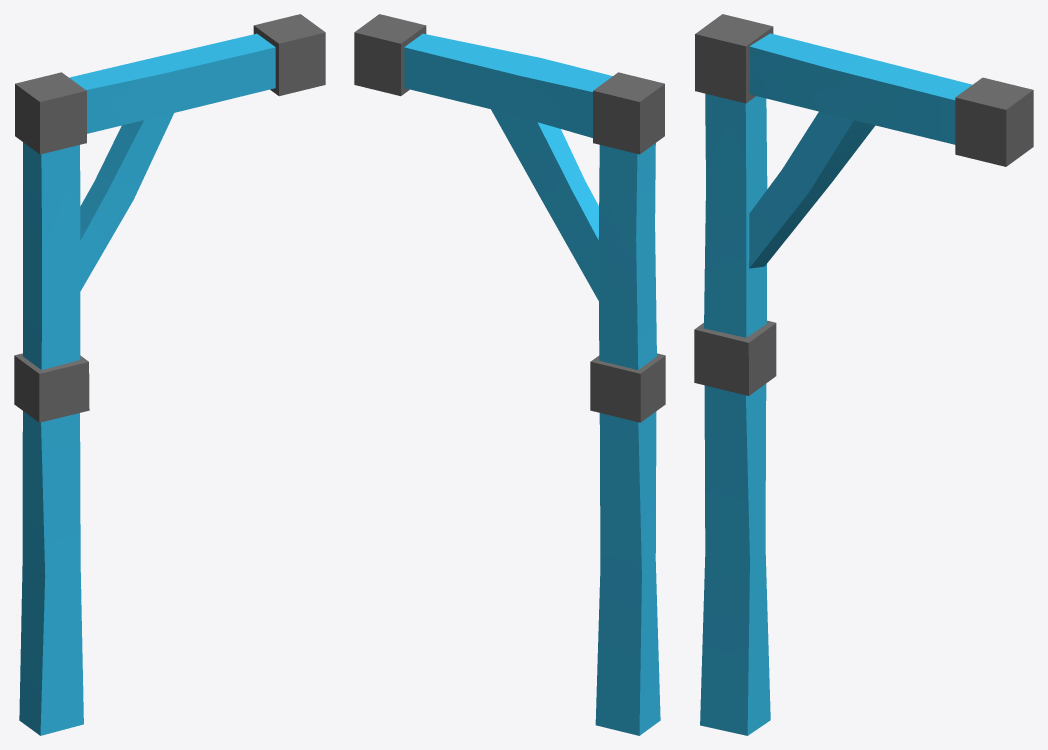
File: Module_02.fbx
3 views of the same model, side by side, from view 1: azimuth 30°, elevation 25°; view 2: azimuth 150°, elevation 25°; view 3: azimuth 330°, elevation 25° (orthographic). The views are drawn at different scales.
Visible parts, largest first — view 1: Module_02; view 2: Module_02; view 3: Module_02.
Boxes of the visible parts, x1,y1,x2,y2 form: Module_02: [14, 14, 325, 735]; Module_02: [354, 14, 665, 735]; Module_02: [694, 14, 1033, 735].
Bounding box in the file's own units: 195 × 415 × 29.77.
